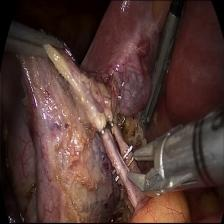Clipper: (125, 128, 203, 198)
Grasper: (136, 33, 185, 127), (6, 14, 70, 77)
